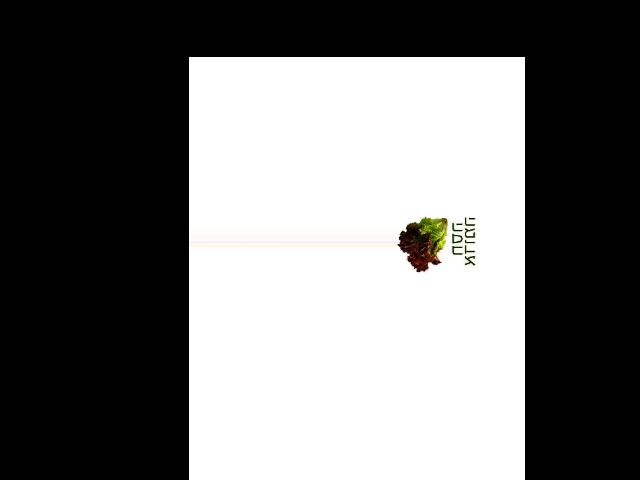lettuce: (397, 211, 449, 273)
